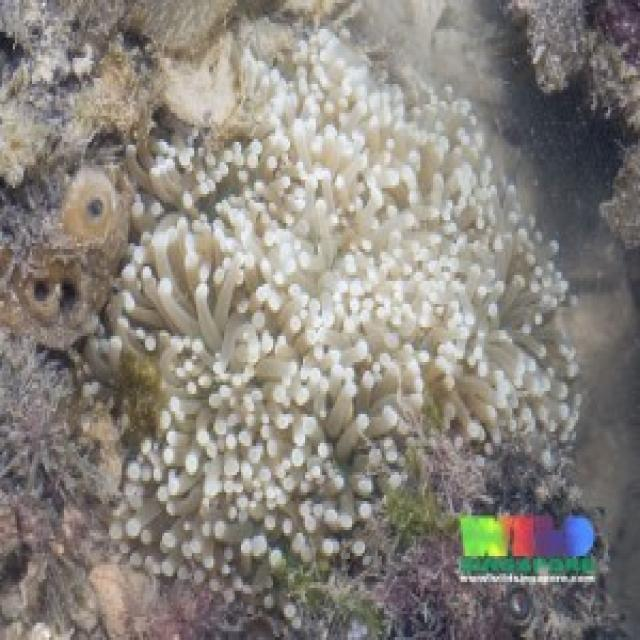Bleached: (106, 33, 568, 566)
